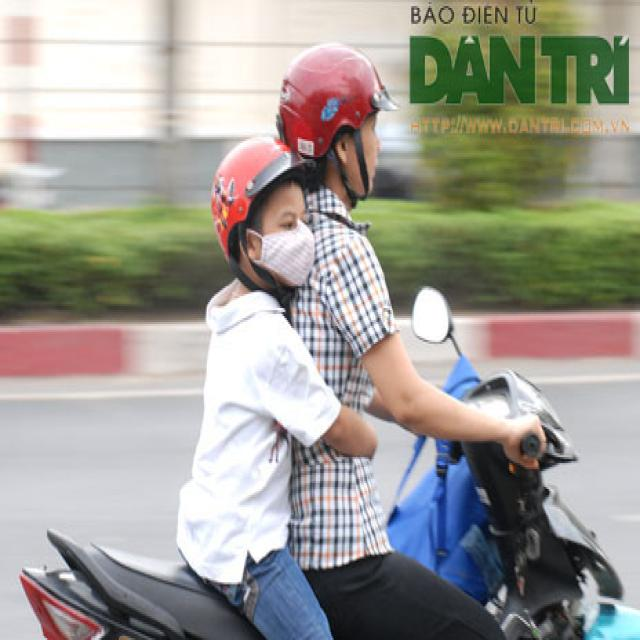helmet: (278, 41, 401, 157), (209, 135, 318, 262)
